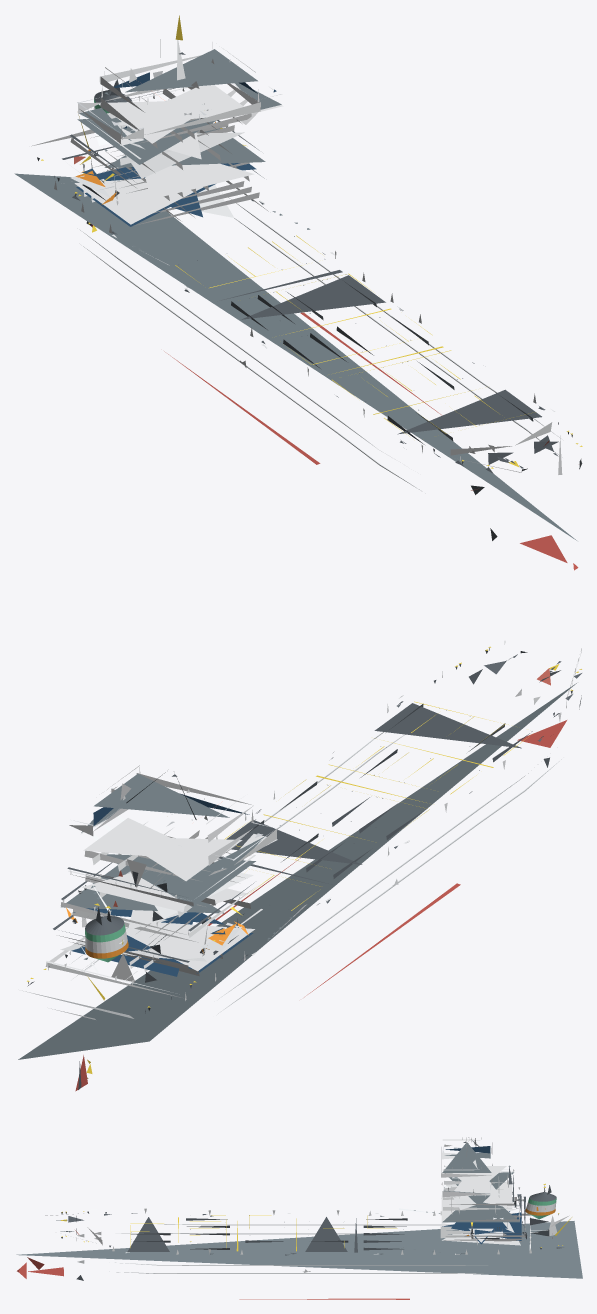
Rendered from ship_13.glb.
3 renders of one model, top to bottom at view 1: azimuth 30°, elevation 25°; view 2: azimuth 150°, elevation 25°; view 3: azimuth 270°, elevation 25°, orthographic. The views are drawn at different scales.
Parts seen in each view (by area): view 1: TrueHelm_Ship_13; view 2: TrueHelm_Ship_13; view 3: TrueHelm_Ship_13.
Part boxes in pixels (x1=…): TrueHelm_Ship_13: x1=14, y1=15, x2=582, y2=570; TrueHelm_Ship_13: x1=18, y1=641, x2=581, y2=1091; TrueHelm_Ship_13: x1=16, y1=1137, x2=582, y2=1299.
Bounding box in the file's own units: 0.1249 × 0.2027 × 0.6606.
